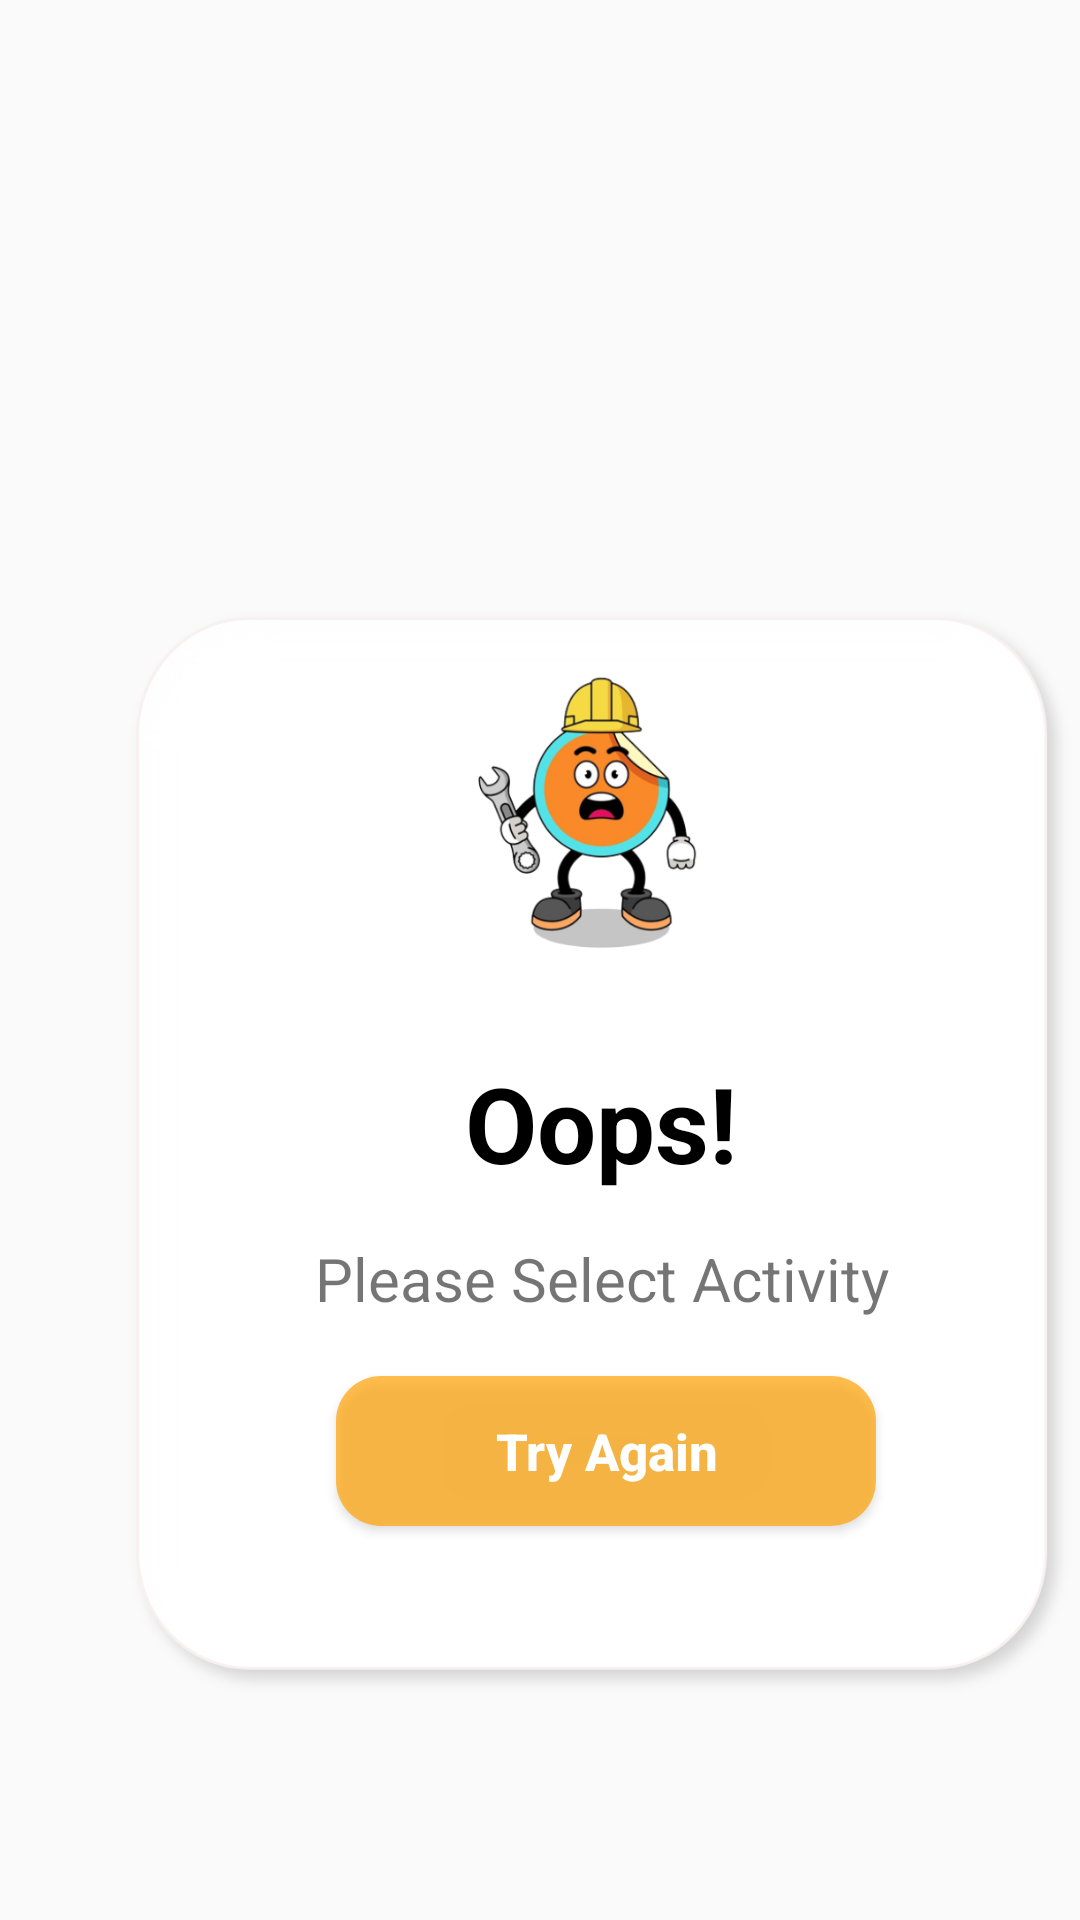

Named icons in this screenshot (1080w x 1920h) and their bounding boxes, (x1, y1, x2, y2):
errorimage: (478, 677, 696, 948)
